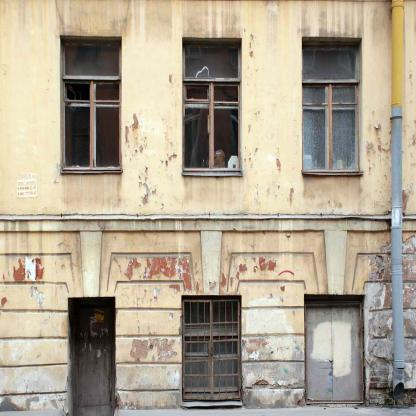Building Outline: (0, 1, 416, 412)
Door: (68, 297, 116, 416)
Facade: (0, 1, 416, 412)
Floor: (0, 0, 416, 243)
Floor Slab: (0, 244, 416, 252)
Ground Floor: (0, 252, 416, 412)
Window: (60, 35, 122, 169), (182, 38, 242, 172), (302, 37, 361, 171), (181, 294, 242, 404), (304, 294, 365, 404)
